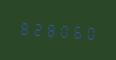eight: (17, 17, 29, 38), (44, 19, 56, 39)
six: (70, 20, 82, 41)
two: (30, 18, 42, 38)
zero: (57, 19, 69, 40), (83, 21, 95, 42)
